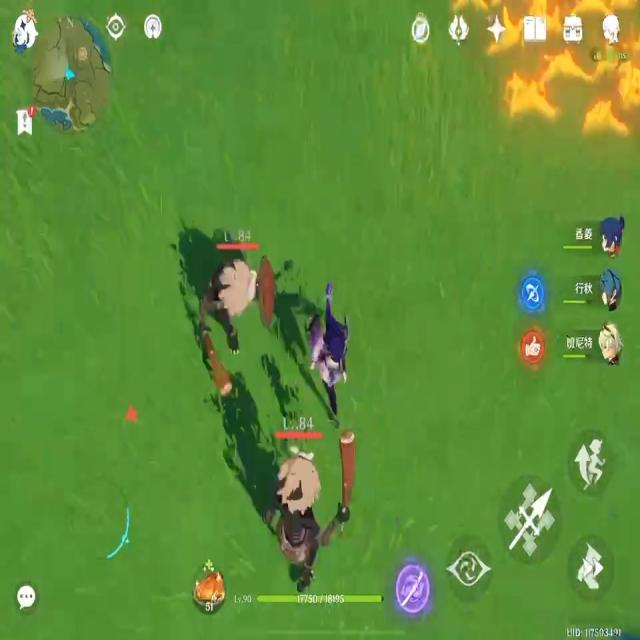genshin-hilichurls: (263, 407, 361, 579), (194, 236, 283, 377)
